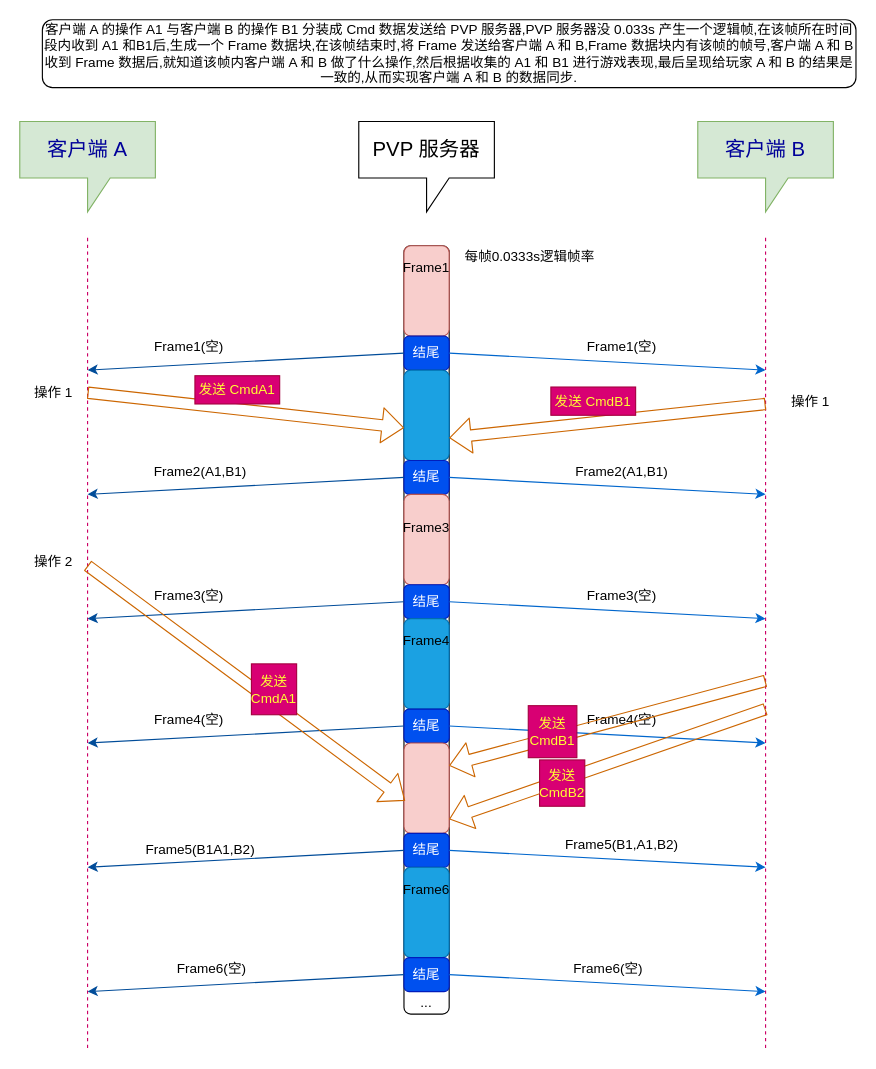
This 876x1069 diagram has some shape labels left out. Here are the shapes that lost their labels. From the top down, the centre of each, then its label:
At pixel 426 414: "Frame2".
At pixel 426 787: "Frame5".
